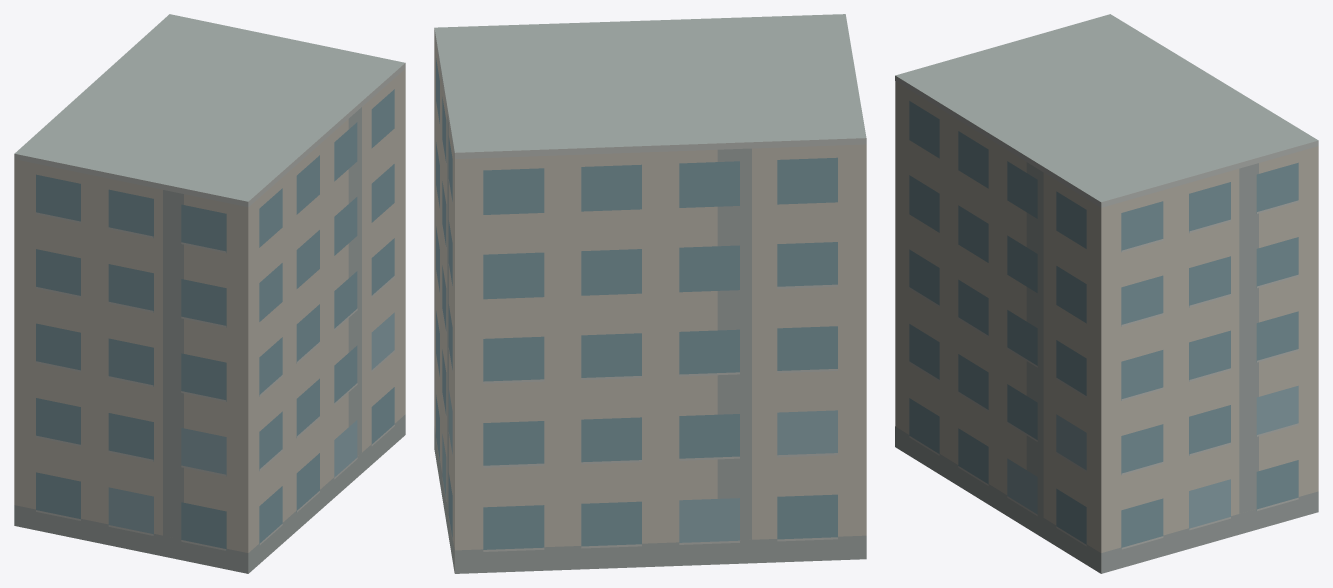
Rendered from survey-upis-32883367.glb.
3 renders of one model, left to right at view 1: azimuth 30°, elevation 25°; view 2: azimuth 150°, elevation 25°; view 3: azimuth 270°, elevation 25°, orthographic. The views are drawn at different scales.
Parts seen in each view (by area): view 1: survey-upis-32883367.tmp; view 2: survey-upis-32883367.tmp; view 3: survey-upis-32883367.tmp.
Part boxes in pixels (x1=…): survey-upis-32883367.tmp: x1=14, y1=14, x2=405, y2=573; survey-upis-32883367.tmp: x1=434, y1=14, x2=866, y2=573; survey-upis-32883367.tmp: x1=895, y1=14, x2=1318, y2=573.
Bounding box in the file's own units: 17.74 × 16.31 × 16.86.
